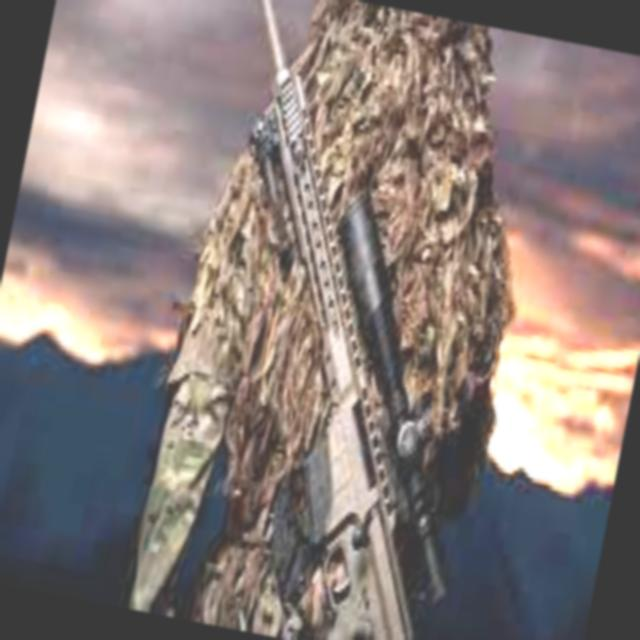rifle: (106, 0, 562, 640)
